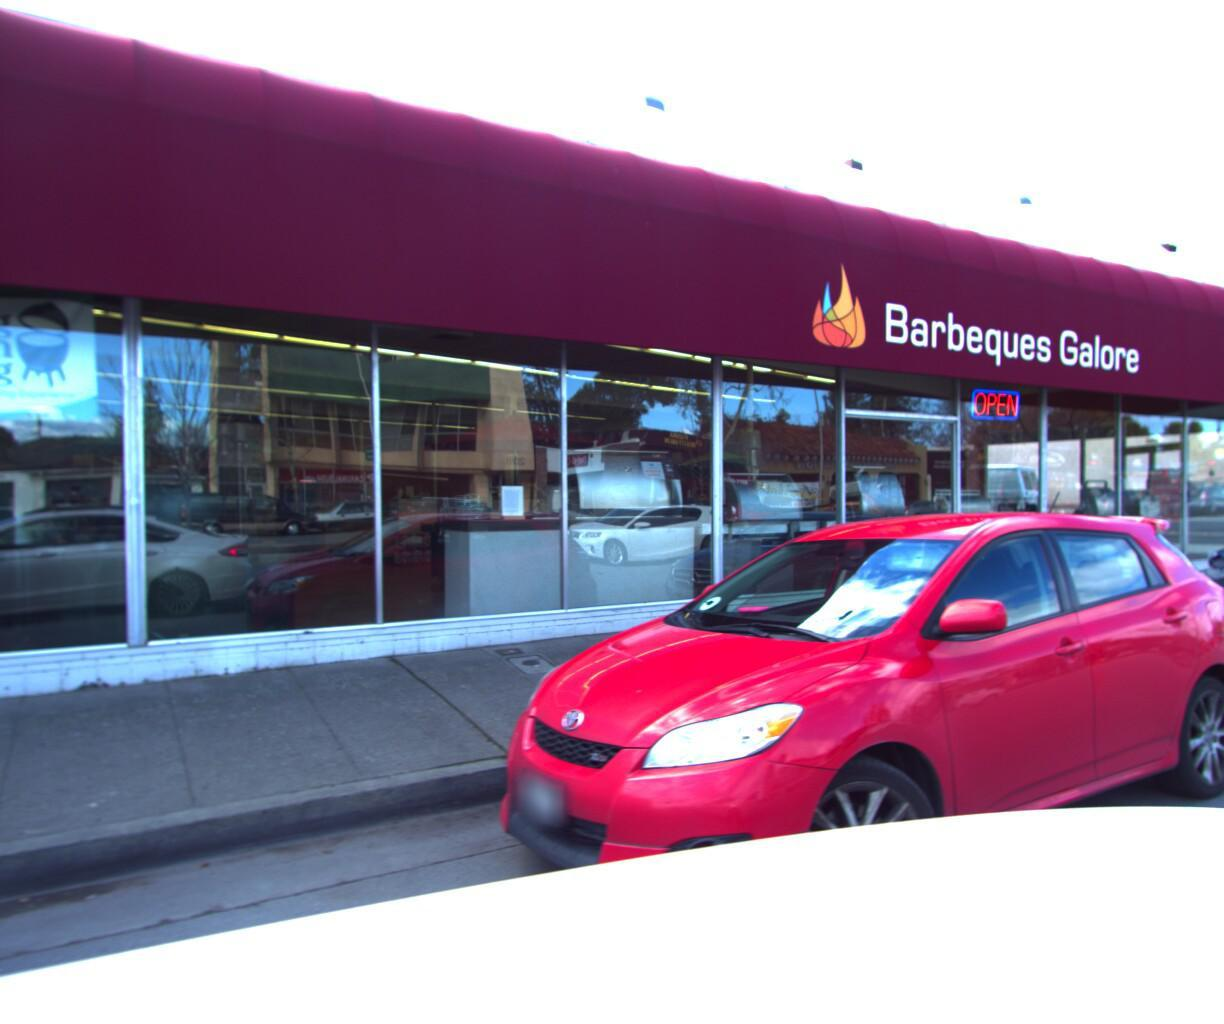car: (454, 507, 1224, 1016), (1095, 498, 1224, 734), (821, 455, 1053, 544), (1076, 473, 1224, 545)
